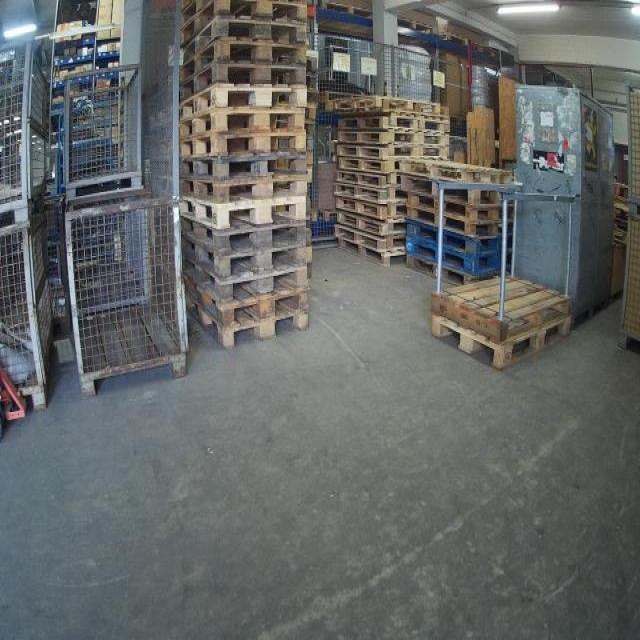pallet: (430, 274, 574, 335), (430, 311, 573, 372), (180, 83, 305, 137), (182, 173, 306, 222), (180, 44, 306, 79), (187, 63, 306, 100), (184, 2, 309, 36), (189, 21, 307, 56), (191, 270, 312, 304), (192, 316, 308, 349), (181, 222, 309, 250), (182, 129, 304, 155), (409, 219, 506, 250), (190, 289, 310, 314), (409, 238, 511, 267), (183, 155, 305, 176), (400, 158, 508, 181), (402, 211, 507, 233), (190, 250, 308, 269), (332, 98, 445, 116), (335, 142, 446, 160), (335, 126, 446, 142), (335, 182, 402, 208), (399, 193, 503, 208), (335, 208, 403, 230), (399, 181, 508, 193), (328, 248, 403, 264), (335, 230, 404, 247), (405, 267, 511, 278), (335, 116, 445, 126), (399, 208, 503, 217), (336, 169, 399, 182), (335, 160, 399, 169)
pallet_truck: (2, 347, 32, 453)
stillage: (60, 190, 190, 398), (62, 61, 142, 190), (3, 201, 51, 411), (2, 33, 48, 197), (614, 208, 638, 355), (617, 73, 639, 208)
